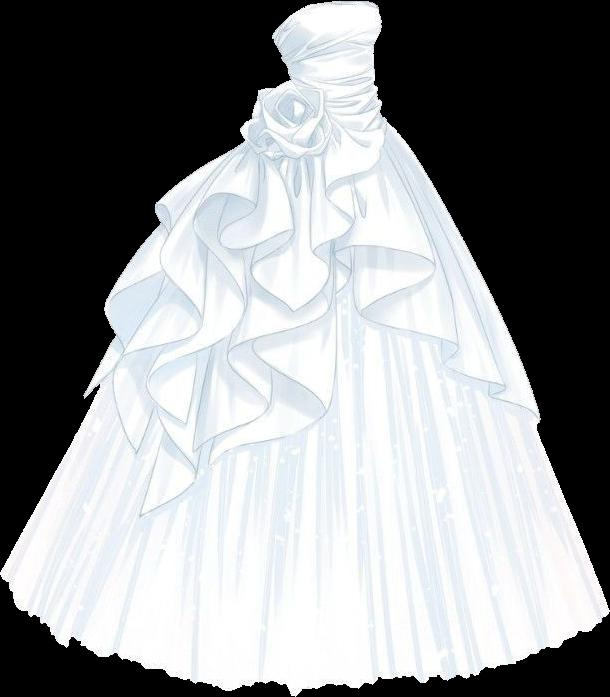Bodice: (272, 1, 390, 144)
Hemline: (0, 570, 609, 696)
Neckline: (268, 0, 380, 42)
Skirt: (1, 81, 608, 696)
